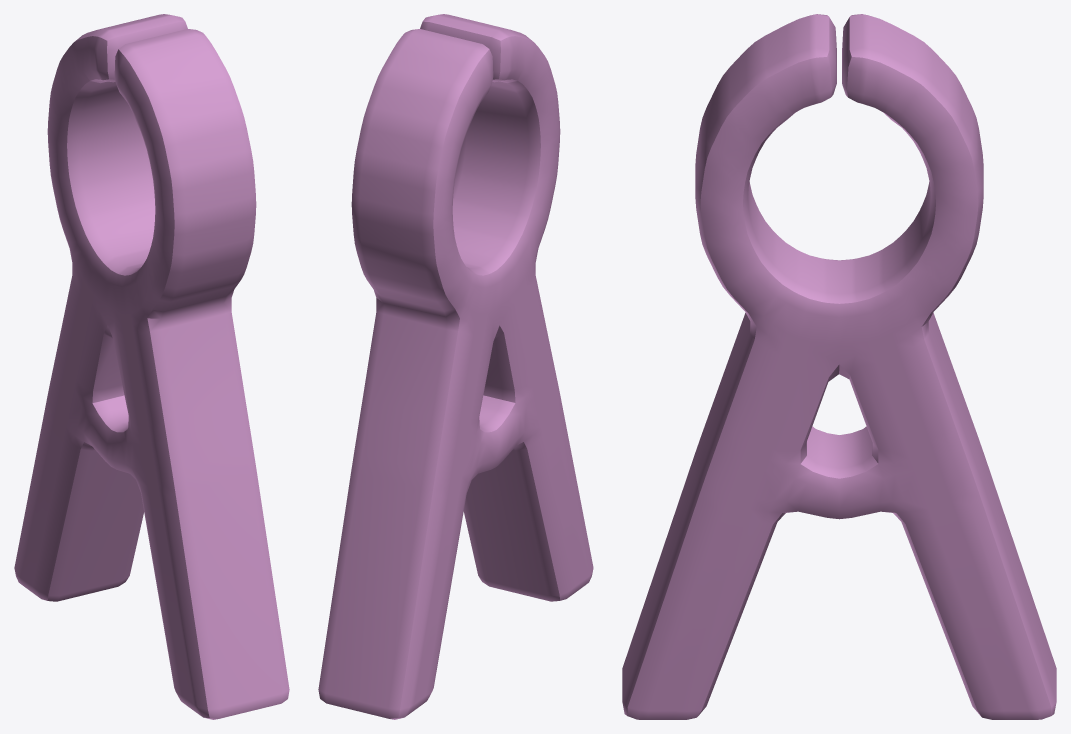
The model's file is Eden_clothespin_1.fbx.
The picture shows the model from 3 angles, left to right: view 1: azimuth 30°, elevation 25°; view 2: azimuth 150°, elevation 25°; view 3: azimuth 270°, elevation 25°; orthographic projection. The views are drawn at different scales.
Visible parts, largest first — view 1: pCylinder4; view 2: pCylinder4; view 3: pCylinder4.
Part boxes in pixels (left/top/right/bottom): pCylinder4: left=14, top=14, right=289, bottom=719; pCylinder4: left=318, top=14, right=593, bottom=719; pCylinder4: left=622, top=14, right=1056, bottom=719.
Size of the model in its own units: 0.000336 by 0.0022 by 0.00129.
